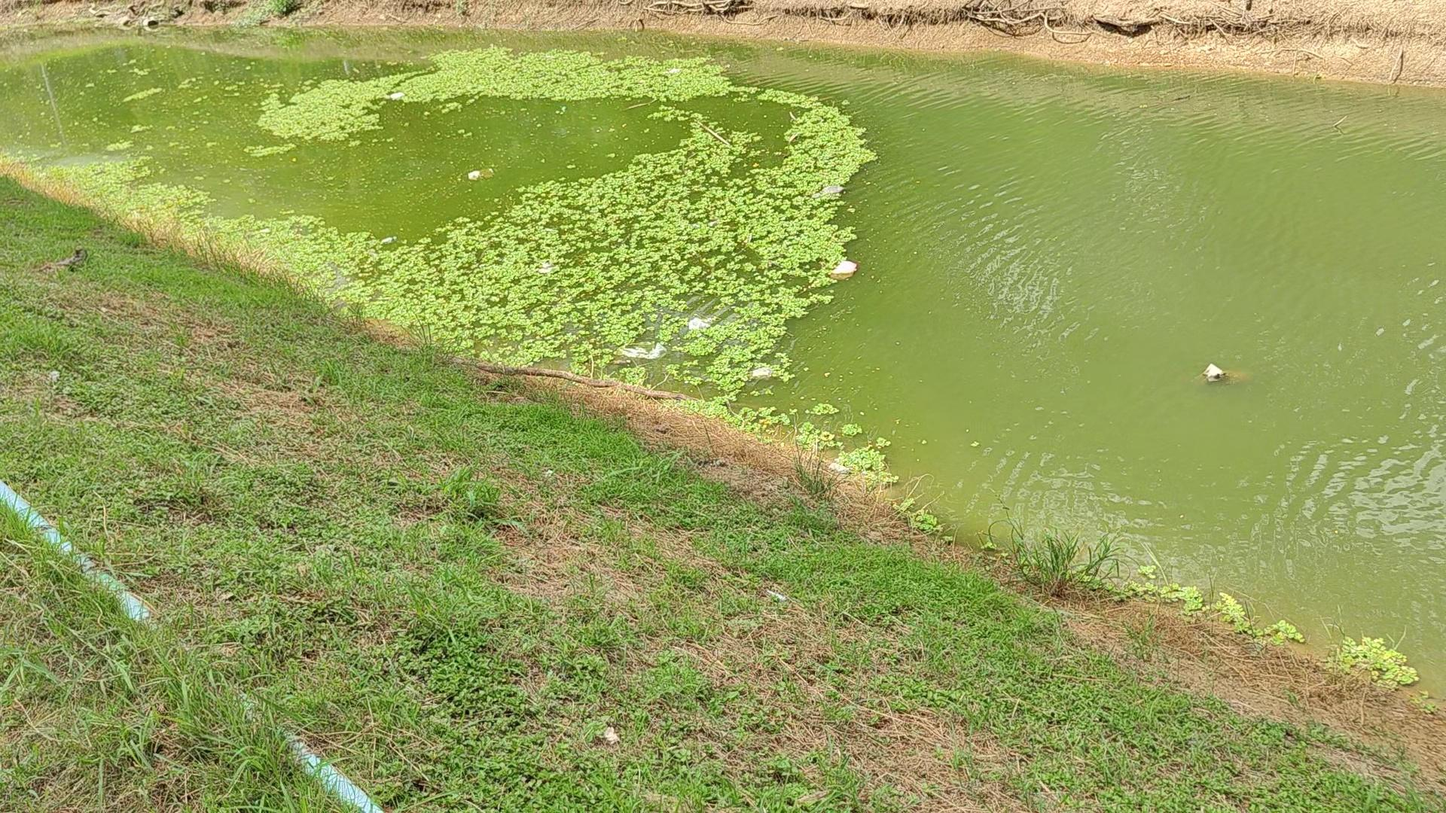trash: (622, 343, 666, 359), (830, 259, 857, 279), (1203, 363, 1225, 380), (750, 366, 773, 379), (687, 317, 710, 330), (820, 184, 844, 195), (468, 169, 493, 179), (380, 236, 396, 244), (388, 91, 404, 99), (667, 69, 681, 74)
